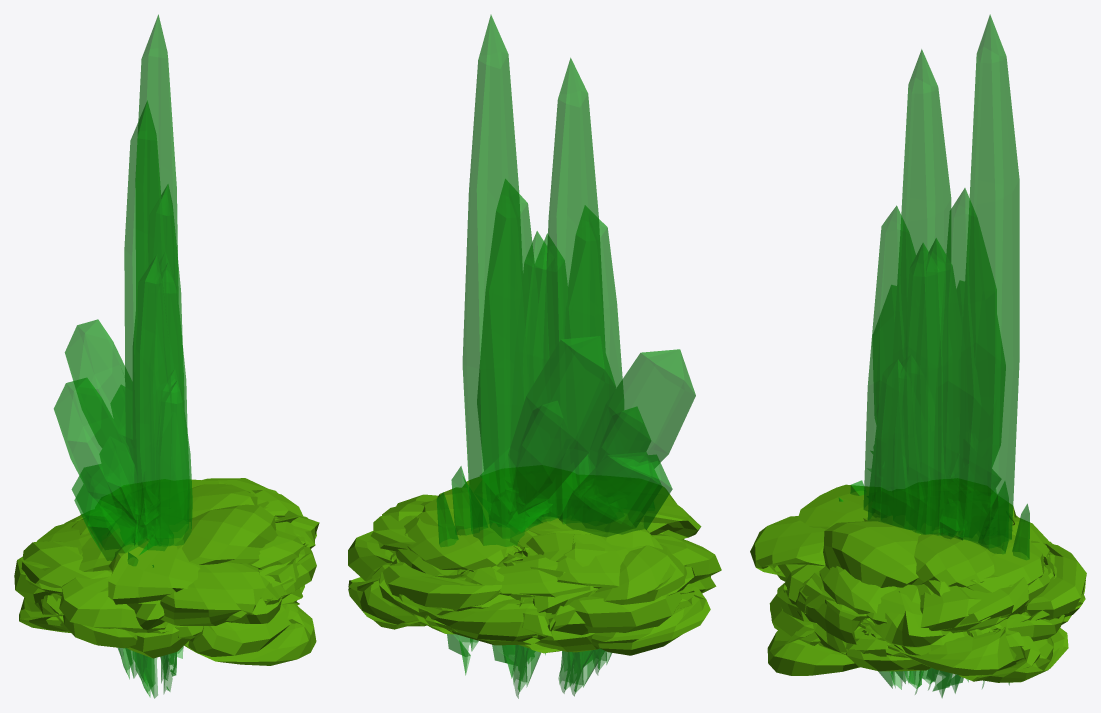
The model's file is crystal22.obj.
3 renders of one model, left to right at view 1: azimuth 30°, elevation 25°; view 2: azimuth 150°, elevation 25°; view 3: azimuth 270°, elevation 25°, orthographic. The views are drawn at different scales.
Parts seen in each view (by area): view 1: Cube.001, Circle.001_Circle.002, Circle.003_Circle.004, Circle.002_Circle.003, Circle; view 2: Cube.001, Circle.003_Circle.004, Circle.001_Circle.002, Circle, Circle.002_Circle.003; view 3: Cube.001, Circle.003_Circle.004, Circle.001_Circle.002, Circle, Circle.002_Circle.003.
Boxes of the visible parts, x1=… form: Cube.001: x1=14, y1=478, x2=319, y2=665; Circle.001_Circle.002: x1=53, y1=100, x2=173, y2=679; Circle.003_Circle.004: x1=64, y1=14, x2=182, y2=459; Circle.002_Circle.003: x1=74, y1=263, x2=192, y2=698; Circle: x1=71, y1=251, x2=189, y2=685; Cube.001: x1=348, y1=477, x2=721, y2=655; Circle.003_Circle.004: x1=436, y1=14, x2=616, y2=698; Circle.001_Circle.002: x1=543, y1=57, x2=695, y2=674; Circle: x1=492, y1=231, x2=661, y2=693; Circle.002_Circle.003: x1=502, y1=233, x2=672, y2=696; Cube.001: x1=750, y1=484, x2=1086, y2=682; Circle.003_Circle.004: x1=934, y1=14, x2=1029, y2=688; Circle.001_Circle.002: x1=838, y1=49, x2=951, y2=517; Circle: x1=881, y1=238, x2=963, y2=693; Circle.002_Circle.003: x1=867, y1=242, x2=952, y2=698.
Bounding box in the file's own units: 2.51 × 5.04 × 2.18.
